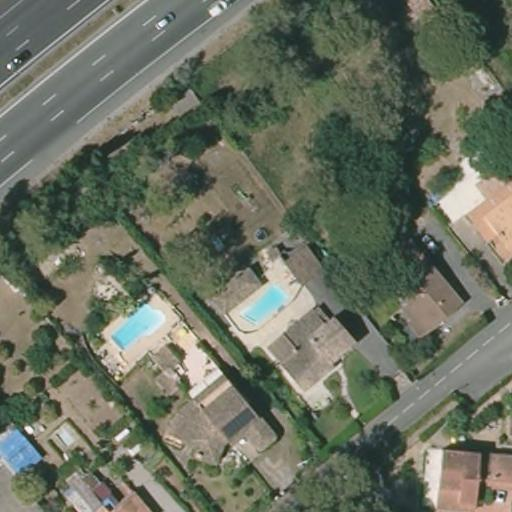pool: (108, 304, 164, 350), (235, 282, 291, 327)
